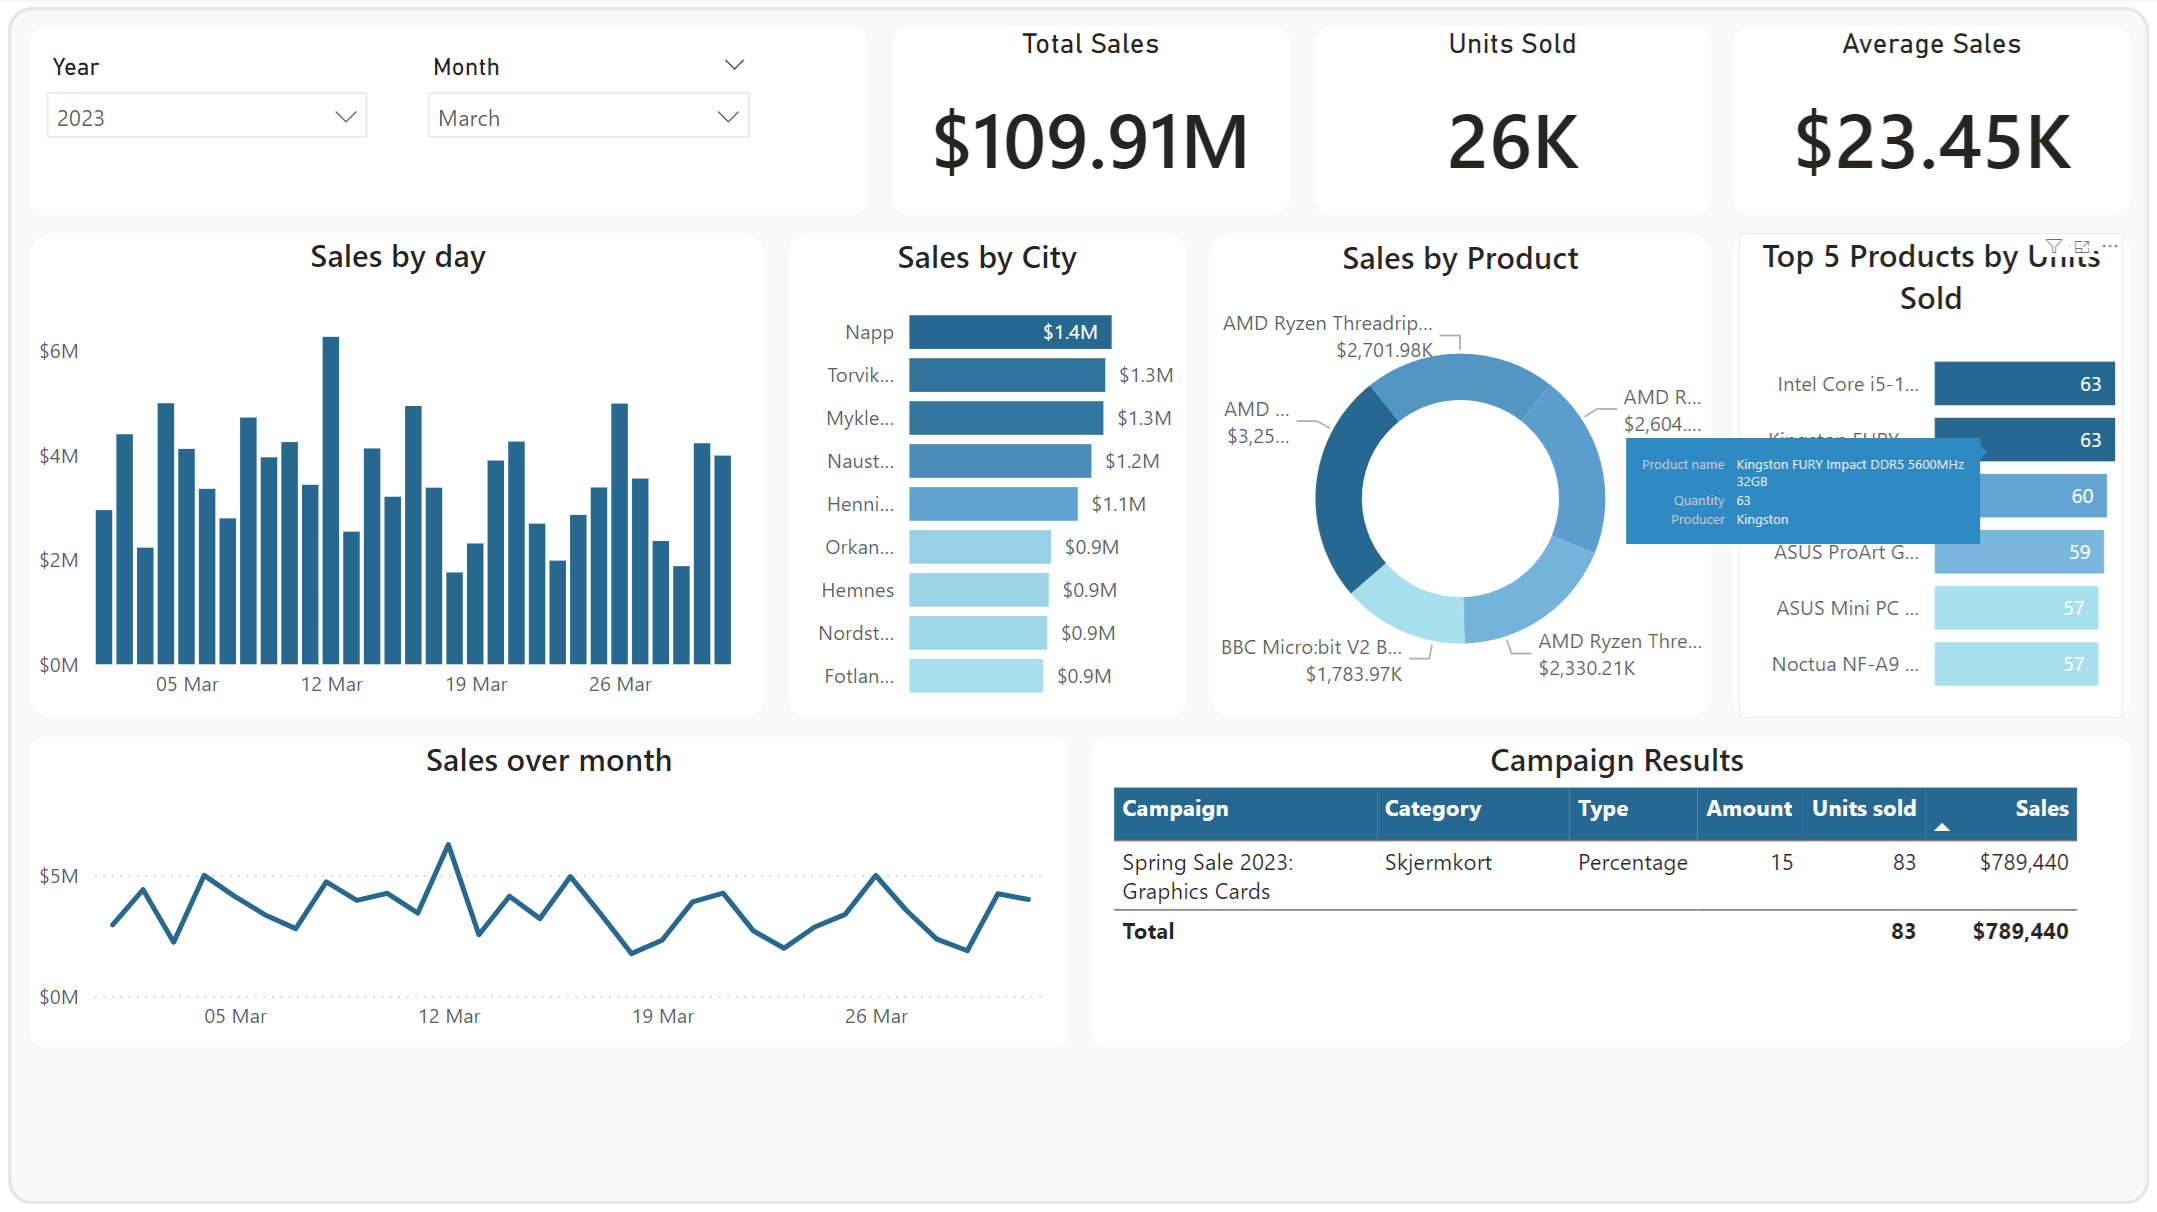

The page's visual inventory and layout, read from the dashboard file:
{"tool":"powerbi","page":{"name":"Overview","canvas":[1280,720],"ordinal":0},"visuals":[{"type":"shape","box":[4.9,5.6,1269.9,710.1],"z":0},{"type":"shape","box":[1028,16.7,235.7,112],"z":500},{"type":"shape","box":[779.4,16.7,235.7,112],"z":750},{"type":"shape","box":[528.9,16.7,235.7,112],"z":875},{"type":"card","title":"Total Sales","fields":{"Values":["Sum(public fact_product_sale.extended_sales_amount)"]},"box":[528.9,16.7,235.7,112],"z":1000},{"type":"card","title":"Units Sold","fields":{"Values":["Sum(public fact_product_sale.quantity)"]},"box":[779.4,16.7,235.7,112],"z":2000},{"type":"card","title":"Average Sales","fields":{"Values":["Avg(public fact_product_sale.extended_sales_amount)"]},"box":[1028,16.7,235.7,112],"z":3000},{"type":"shape","box":[17.8,16.5,496.9,112.3],"z":3500},{"type":"slicer","fields":{"Values":["public dim_date.date.Variation.Date Hierarchy.Year"]},"box":[17.9,27.8,210.3,89.7],"z":4000},{"type":"slicer","fields":{"Values":["public dim_date.date.Variation.Date Hierarchy.Month"]},"box":[243.7,27.8,210.9,89.7],"z":5000},{"type":"shape","box":[467.6,139.2,236.3,287.6],"z":6000},{"type":"clusteredBarChart","title":"Sales by City","fields":{"Category":["public dim_location.city_name"],"Y":["Sum(public fact_product_sale.extended_sales_amount)"]},"box":[467.6,139.8,236.3,287.6],"z":7000},{"type":"shape","box":[1027.4,139.8,236.3,287.6],"z":8000},{"type":"shape","box":[716.9,139.2,298.1,287.6],"z":9000},{"type":"donutChart","title":"Sales by Product","fields":{"Category":["public dim_product.product_name"],"Y":["Sum(public fact_product_sale.extended_sales_amount)"]},"box":[716.9,140.4,298.1,287.6],"z":10000},{"type":"shape","box":[17.9,139.2,436.7,287.6],"z":11000},{"type":"clusteredBarChart","title":"Top 5 Products by Units Sold","fields":{"Category":["public dim_product.product_name"],"Y":["Sum(public fact_product_sale.quantity)"]},"box":[1031.1,139.2,228.2,287.6],"z":12000},{"type":"clusteredColumnChart","title":"Sales by day","fields":{"Y":["Sum(public fact_product_sale.extended_sales_amount)"],"Category":["public dim_date.date"]},"box":[17.9,139.2,436.7,285.8],"z":13000},{"type":"shape","box":[17.9,438.6,616.1,183.7],"z":14000},{"type":"shape","box":[647,438.6,616.7,183.7],"z":15000},{"type":"lineChart","title":"Sales over month","fields":{"Y":["Sum(public fact_product_sale.extended_sales_amount)"],"Category":["public dim_date.date"]},"box":[17.9,438.6,616.1,183.7],"z":16000},{"type":"tableEx","title":"Campaign Results","fields":{"Values":["public dim_discount.discount_name","public dim_product.product_category","public dim_discount.discount_type","public dim_discount.discount_amount","Sum(public fact_product_sale.quantity)","Sum(public fact_product_sale.extended_sales_amount)"]},"box":[655.1,438.6,608.7,183.7],"z":17000}]}

Visuals, with their boxes in screenshot pixels (x1, y1, x2, y2), scaled from the page's 1280x720 canvas onto the 2157x1212 screenshot:
shape: bbox=[8, 9, 2148, 1205]
shape: bbox=[1732, 28, 2130, 217]
shape: bbox=[1313, 28, 1711, 217]
shape: bbox=[891, 28, 1288, 217]
"Total Sales" card: bbox=[891, 28, 1288, 217]
"Units Sold" card: bbox=[1313, 28, 1711, 217]
"Average Sales" card: bbox=[1732, 28, 2130, 217]
shape: bbox=[30, 28, 867, 217]
slicer - public dim_date.date.Variation.Date Hierarchy.Year: bbox=[30, 47, 385, 198]
slicer - public dim_date.date.Variation.Date Hierarchy.Month: bbox=[411, 47, 766, 198]
shape: bbox=[788, 234, 1186, 718]
"Sales by City" clusteredBarChart: bbox=[788, 235, 1186, 719]
shape: bbox=[1731, 235, 2130, 719]
shape: bbox=[1208, 234, 1710, 718]
"Sales by Product" donutChart: bbox=[1208, 236, 1710, 720]
shape: bbox=[30, 234, 766, 718]
"Top 5 Products by Units Sold" clusteredBarChart: bbox=[1738, 234, 2122, 718]
"Sales by day" clusteredColumnChart: bbox=[30, 234, 766, 715]
shape: bbox=[30, 738, 1068, 1048]
shape: bbox=[1090, 738, 2130, 1048]
"Sales over month" lineChart: bbox=[30, 738, 1068, 1048]
"Campaign Results" tableEx: bbox=[1104, 738, 2130, 1048]
